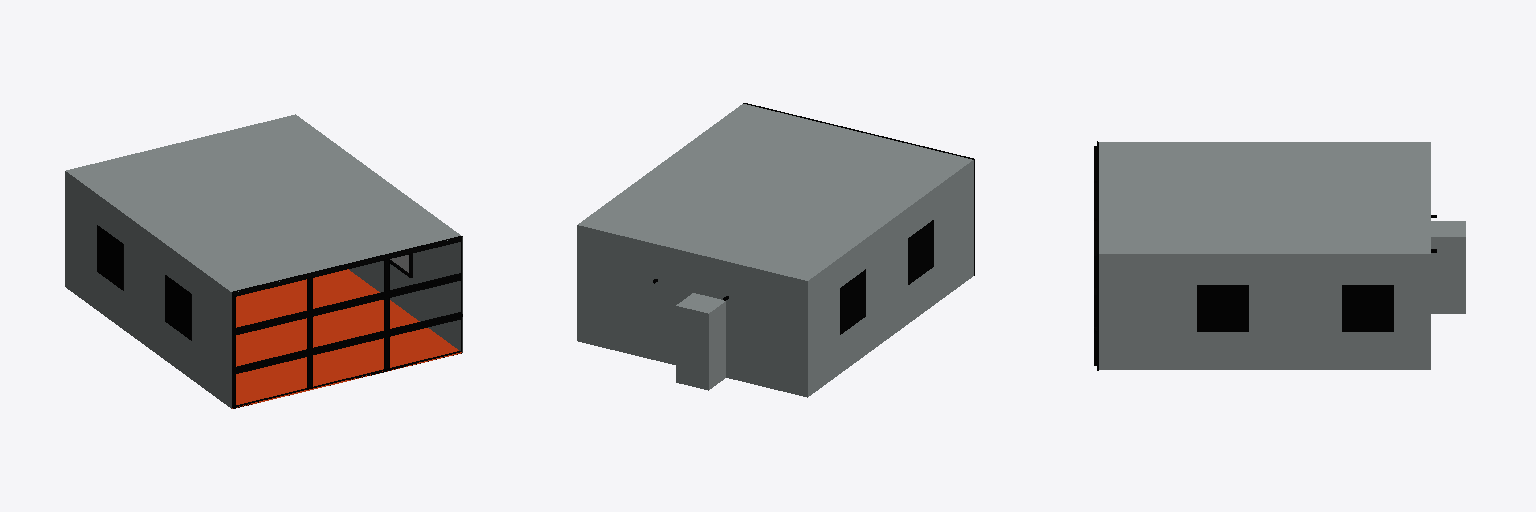
Rendered from white-room1.obj.
3 renders of one model, left to right at view 1: azimuth 30°, elevation 25°; view 2: azimuth 150°, elevation 25°; view 3: azimuth 270°, elevation 25°, orthographic.
Parts seen in each view (by area): view 1: window_Cube.008, window.001_Cube.015, picture_frame.003_Cube.018, picture_frame.002_Cube.016; view 2: window_Cube.008, picture_frame.002_Cube.016, picture_frame.003_Cube.018; view 3: window_Cube.008, picture_frame_Cube.004, picture_frame.001_Cube.005, window.001_Cube.015.
Boxes of the visible parts, <box> form: window_Cube.008: <box>65,114,462,408</box>; window.001_Cube.015: <box>232,236,462,408</box>; picture_frame.003_Cube.018: <box>165,275,191,340</box>; picture_frame.002_Cube.016: <box>97,225,123,290</box>; window_Cube.008: <box>577,104,973,397</box>; picture_frame.002_Cube.016: <box>840,269,865,334</box>; picture_frame.003_Cube.018: <box>908,220,933,284</box>; window_Cube.008: <box>1099,142,1465,369</box>; picture_frame_Cube.004: <box>1342,285,1393,331</box>; picture_frame.001_Cube.005: <box>1197,285,1248,331</box>; window.001_Cube.015: <box>1094,141,1098,370</box>.
Size of the model in its own units: 6.33 by 3.05 by 8.84.